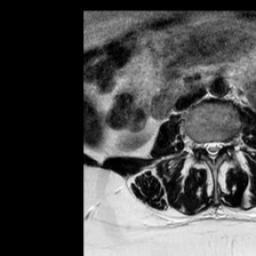CCS_normal: (209, 132, 216, 169)
LFS_stenosis: (223, 129, 231, 156)
LLS_normal: (216, 132, 223, 159)
RFS_stenosis: (194, 130, 202, 157)
RLS_normal: (202, 133, 209, 159)
